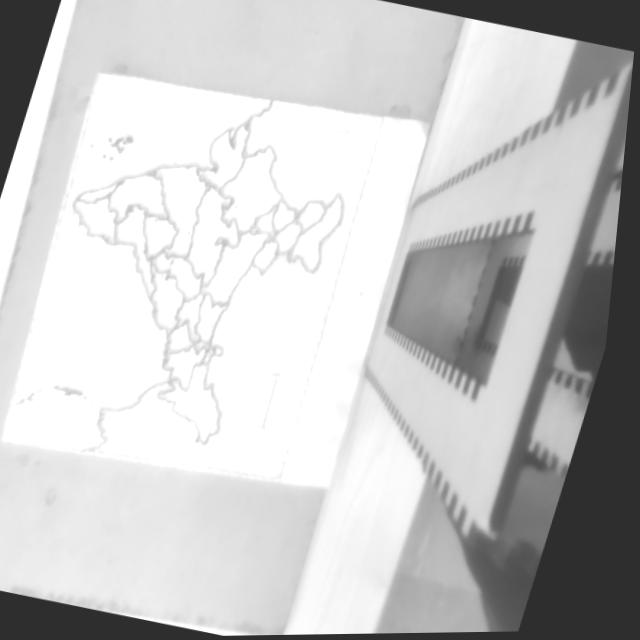map: (0, 38, 384, 516)
